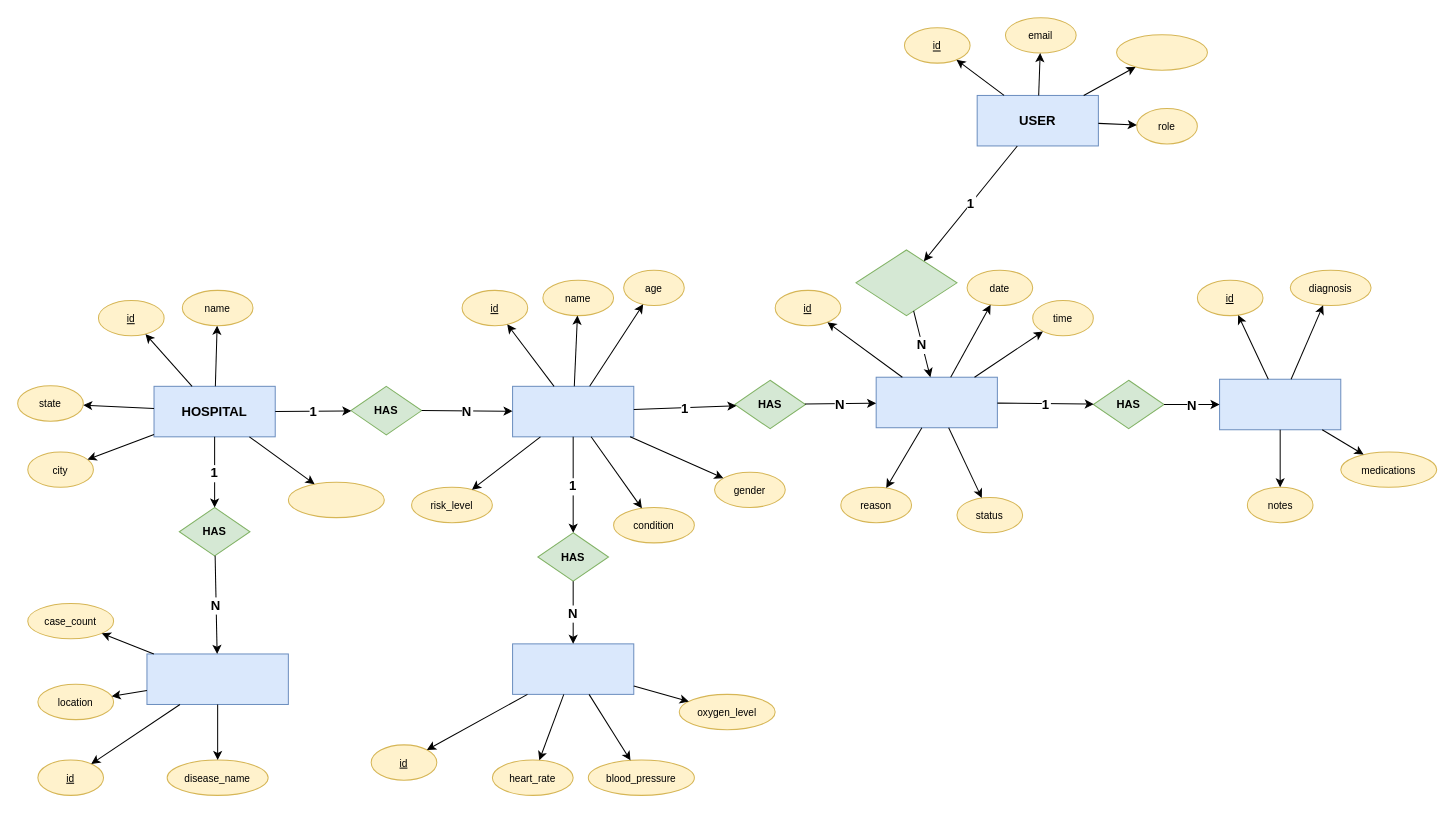
This 1454x813 diagram has some shape labels left out. Here are the shapes that lost their labels. From the top down, the box of each, then its label:
(1116, 34, 1207, 70): first_name
(855, 249, 957, 316): ASSIGNED TO
(512, 385, 634, 437): PATIENT
(875, 376, 997, 428): APPOINTMENT
(1219, 378, 1341, 430): PRESCRIPTION
(287, 481, 384, 518): bed_capacity
(146, 653, 288, 704): DISEASE_TREND
(512, 643, 634, 694): VITALS
